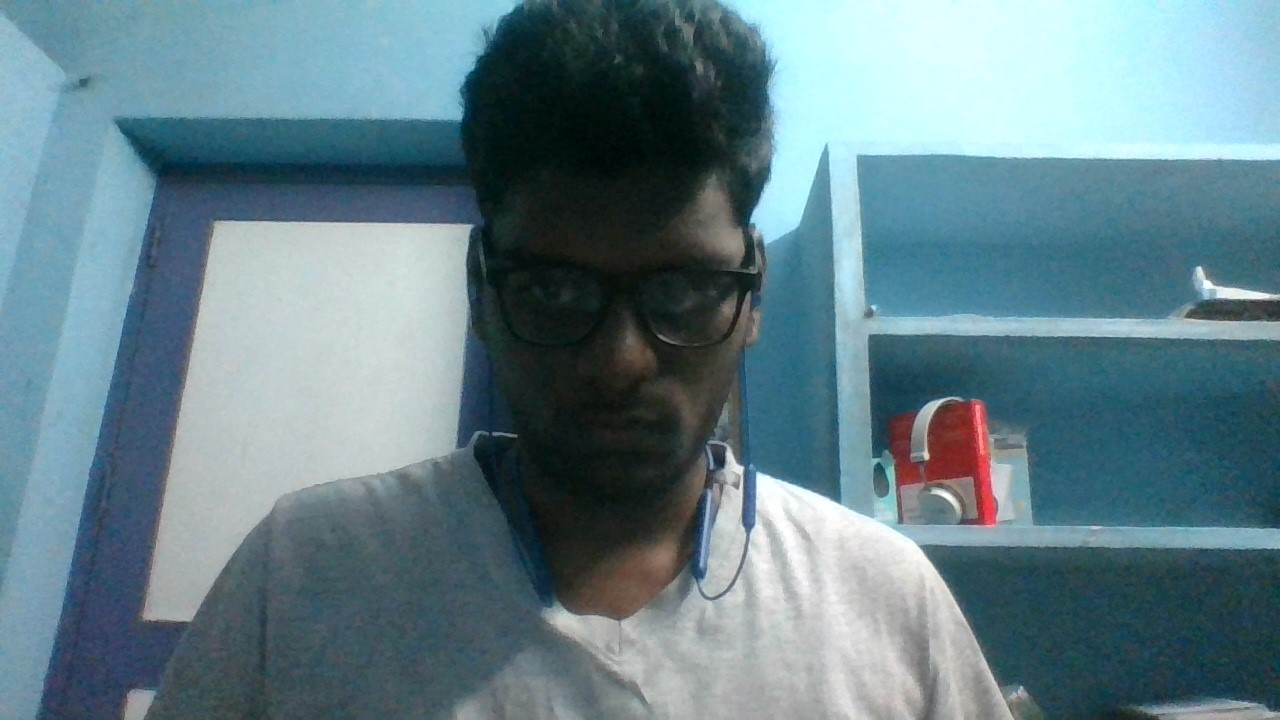person: (154, 5, 1025, 720)
